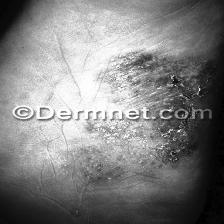Non-Cancerous Skin Condition: (105, 55, 214, 106), (156, 124, 198, 164)
